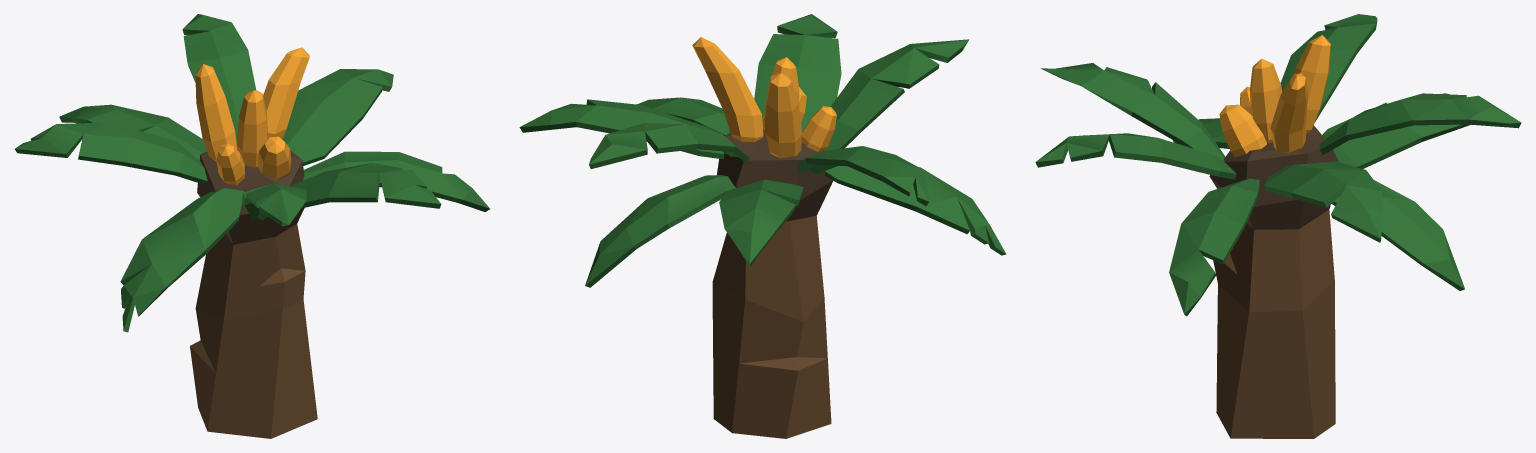
Rendered from nature-palm-prehistoric-small.glb.
The picture shows the model from 3 angles, left to right: view 1: azimuth 30°, elevation 25°; view 2: azimuth 150°, elevation 25°; view 3: azimuth 270°, elevation 25°; orthographic projection. The views are drawn at different scales.
Parts seen in each view (by area): view 1: SM_Palm_Prehistoric_Small; view 2: SM_Palm_Prehistoric_Small; view 3: SM_Palm_Prehistoric_Small.
Boxes of the visible parts, x1,y1,x2,y2 form: SM_Palm_Prehistoric_Small: (15, 14, 489, 438); SM_Palm_Prehistoric_Small: (519, 14, 1006, 438); SM_Palm_Prehistoric_Small: (1035, 14, 1521, 438).
Bounding box in the file's own units: 3.82 × 3.28 × 3.87.
